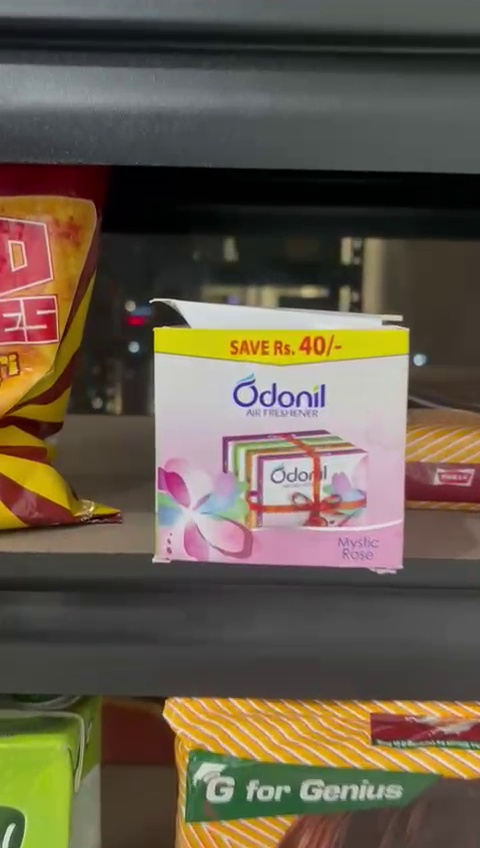Odonil: (140, 298, 416, 569)
